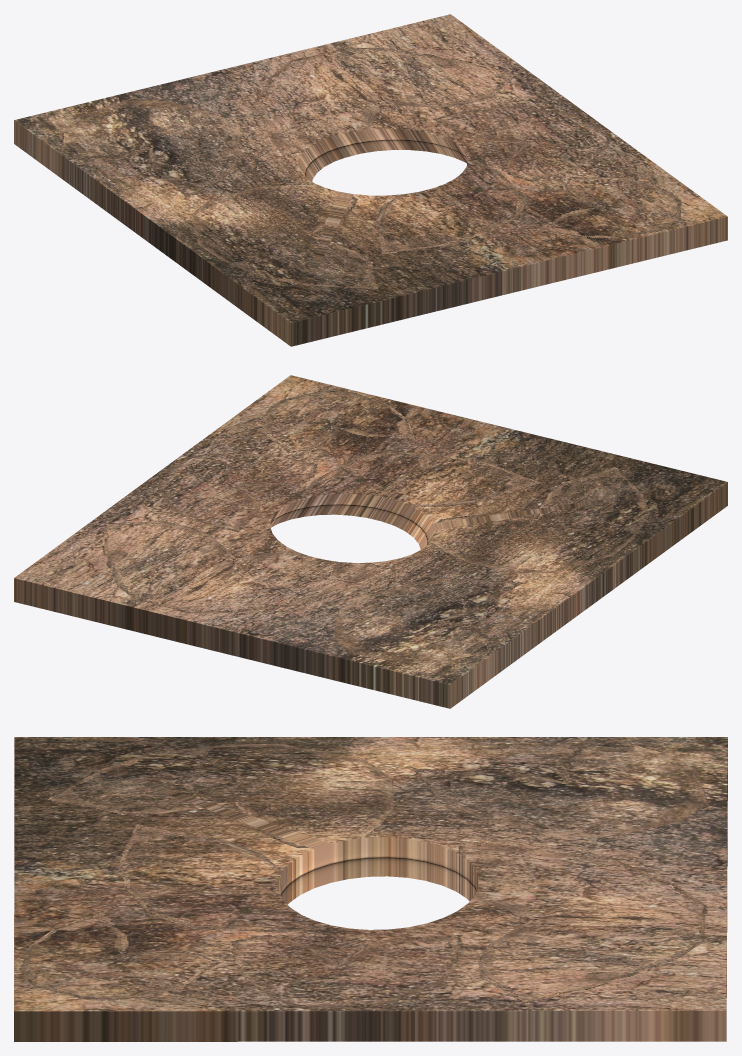
Rendered from Ceiling 1.fbx.
3 views of the same model, one above another, from view 1: azimuth 30°, elevation 25°; view 2: azimuth 150°, elevation 25°; view 3: azimuth 270°, elevation 25° (orthographic). The views are drawn at different scales.
Parts seen in each view (by area): view 1: Ground_Box; view 2: Ground_Box; view 3: Ground_Box.
Boxes of the visible parts, <box> form: Ground_Box: <box>14,14,727,346</box>; Ground_Box: <box>14,375,727,708</box>; Ground_Box: <box>14,737,727,1041</box>.
Bounding box in the file's own units: 1344 × 69.72 × 1478.
